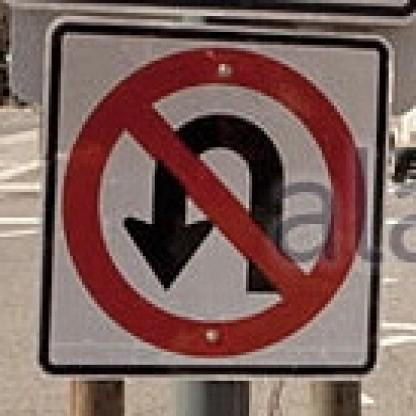No U-Turn: (38, 20, 391, 380)
